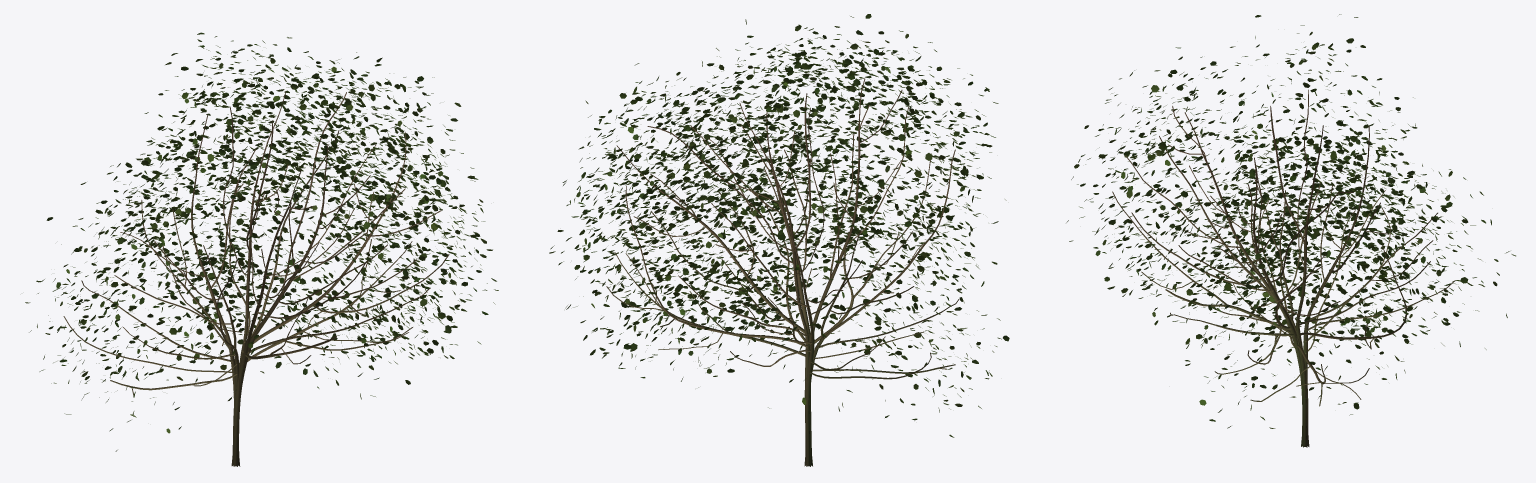
Rendered from SM_Tree_hazel_1.glb.
The picture shows the model from 3 angles, left to right: view 1: azimuth 30°, elevation 25°; view 2: azimuth 150°, elevation 25°; view 3: azimuth 270°, elevation 25°; orthographic projection.
Visible parts, largest first — view 1: SM_Tree_hazel_1; view 2: SM_Tree_hazel_1; view 3: SM_Tree_hazel_1.
Boxes of the visible parts, x1,y1,x2,y2 form: SM_Tree_hazel_1: (25,32,498,466); SM_Tree_hazel_1: (549,14,1009,466); SM_Tree_hazel_1: (1066,14,1515,447).
Bounding box in the file's own units: 6.98 × 6.61 × 6.44.
